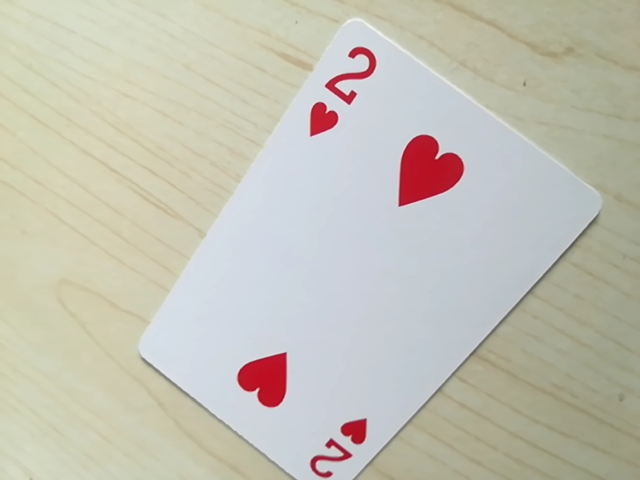hx 2: (305, 35, 382, 140), (302, 419, 369, 480)
